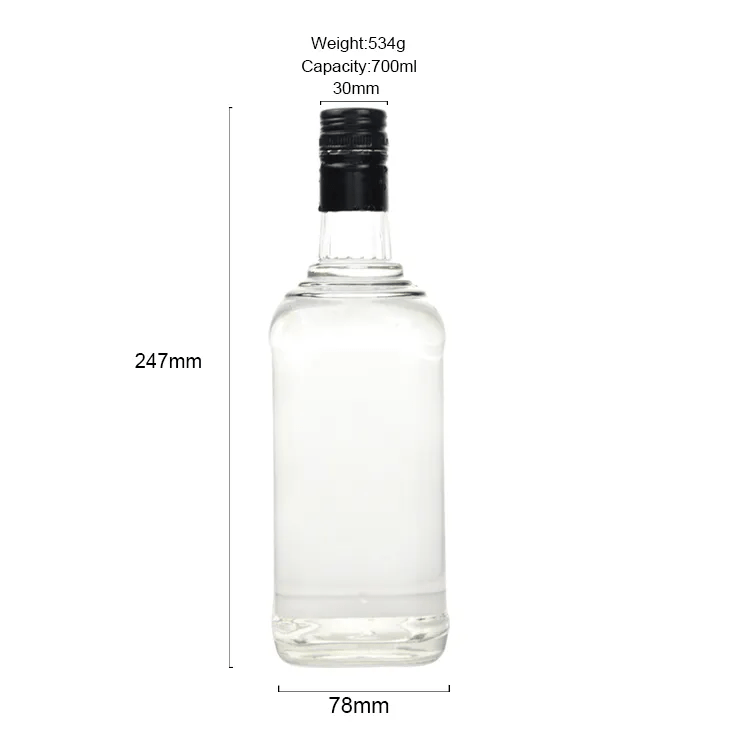glass_bottle: (269, 108, 452, 677)
